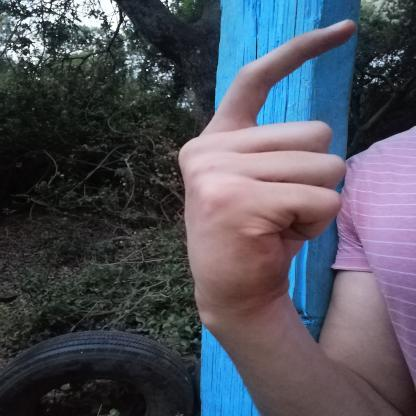RAA: (165, 6, 374, 330)
